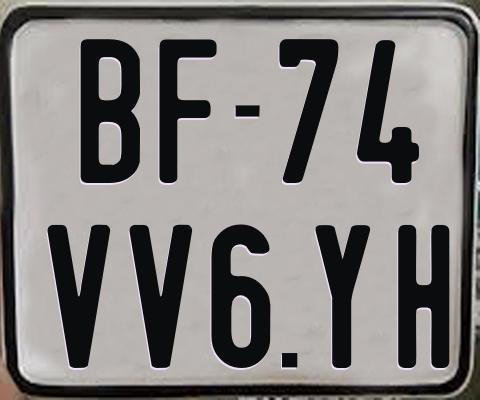4: (355, 39, 419, 185)
6: (209, 224, 271, 368)
7: (279, 38, 340, 185)
B: (79, 38, 139, 182)
F: (156, 37, 214, 185)
H: (396, 222, 449, 369)
V: (44, 223, 108, 372), (129, 223, 192, 366)
Y: (312, 222, 373, 371)
